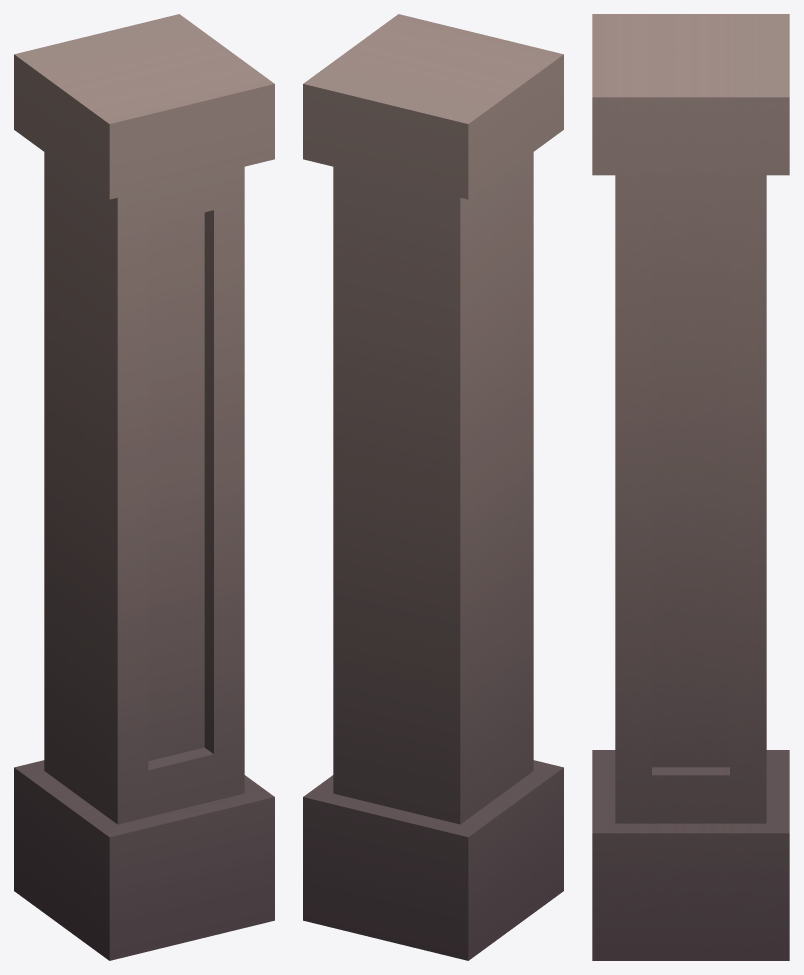
File: fenceBCorner1.glb
3 renders of one model, left to right at view 1: azimuth 30°, elevation 25°; view 2: azimuth 150°, elevation 25°; view 3: azimuth 270°, elevation 25°, orthographic. The views are drawn at different scales.
Visible parts, largest first — view 1: fenceBCorner1; view 2: fenceBCorner1; view 3: fenceBCorner1.
Part boxes in pixels (x1=…): fenceBCorner1: x1=14, y1=14, x2=274, y2=960; fenceBCorner1: x1=303, y1=14, x2=563, y2=960; fenceBCorner1: x1=592, y1=14, x2=789, y2=960.
Bounding box in the file's own units: 0.359 × 1.74 × 0.359.
Materials: 1 (1 with a texture image).
